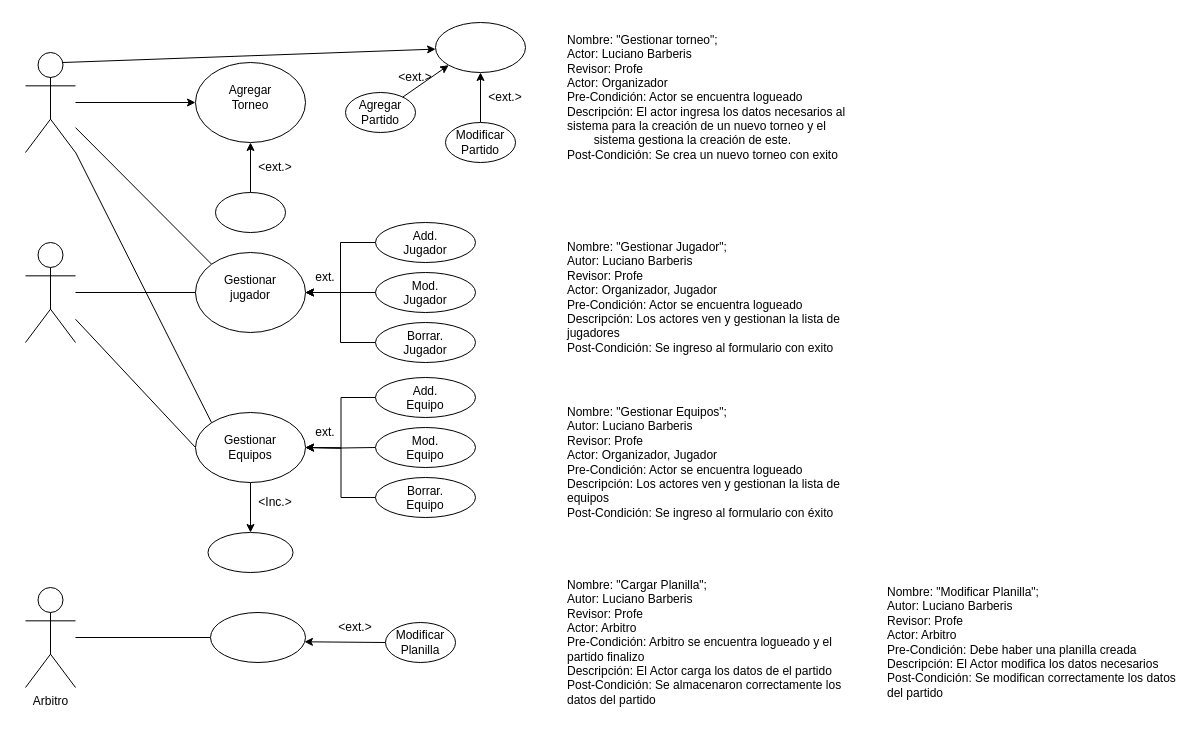
Some shapes in this 1203 by 739 pixel diagram are drawn without their labels. The shapes that lost their labels are listed below. From the top down, each one's centre as x and y in pixels, then its label:
(x=480, y=47): Gestionar Partidos
(x=50, y=102): Organizador
(x=250, y=212): Modificar Torneo
(x=50, y=292): Jugadores
(x=250, y=552): Verificar Jugador
(x=258, y=637): Cargar Planilla
